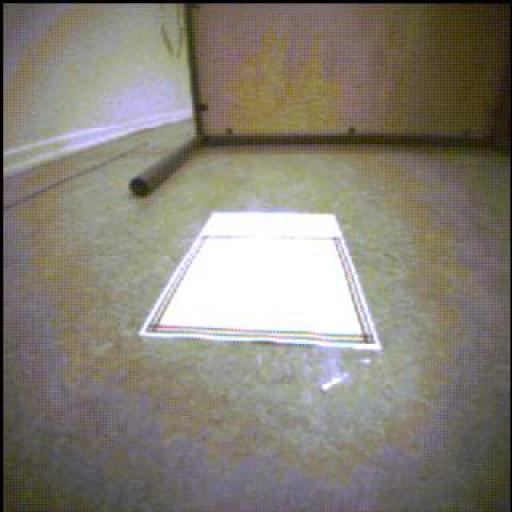Pad: (140, 214, 382, 351)
